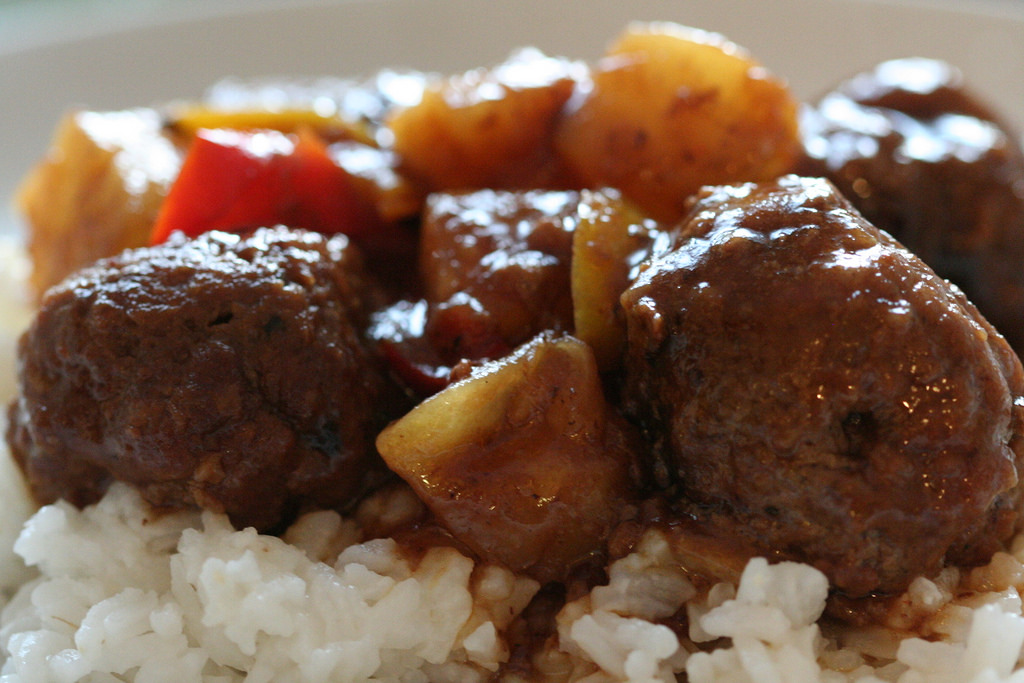meatballs: (627, 190, 1011, 606), (20, 214, 391, 540)
plain rice: (9, 495, 547, 683), (559, 534, 1024, 679)
